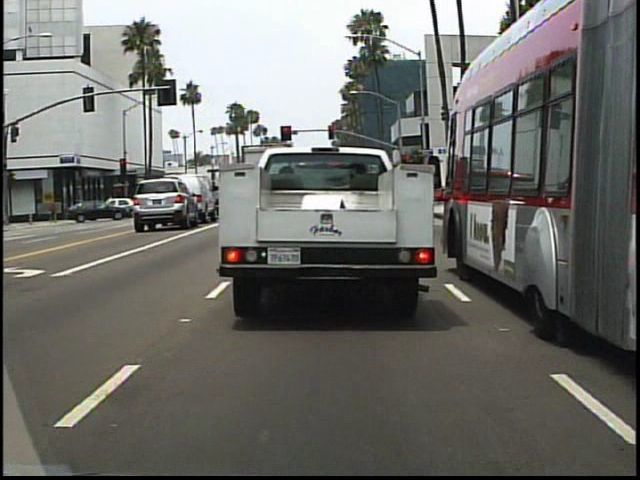person: (48, 195, 60, 226)
